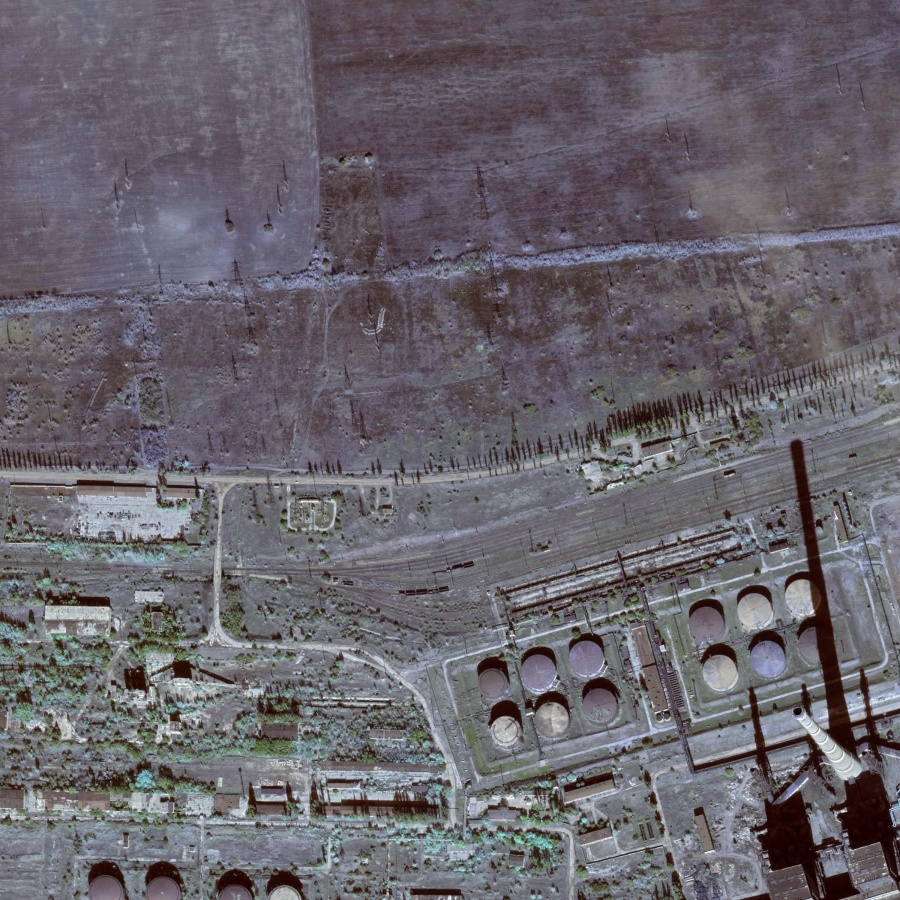PowerPlant: (440, 610, 647, 786)
